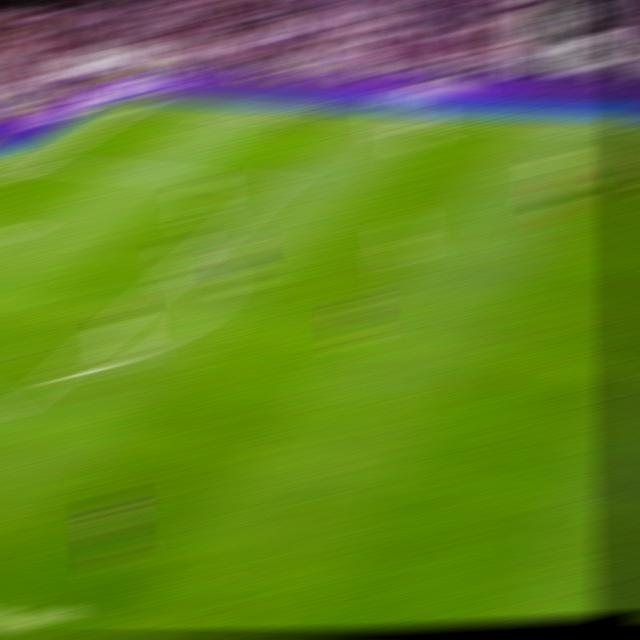bigarea_top_inner: (261, 175, 293, 190)
bigarea_top_outter: (24, 156, 57, 167)
bottom_arc_area_intersection: (34, 368, 69, 387)
corner: (123, 100, 155, 108)
smallarea_top_inner: (6, 228, 36, 237)
top_arc_area_intersection: (175, 254, 203, 265)
